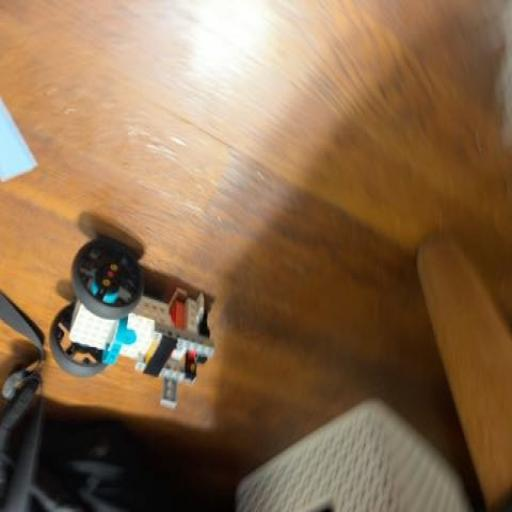Opponent: (52, 235, 216, 419)
